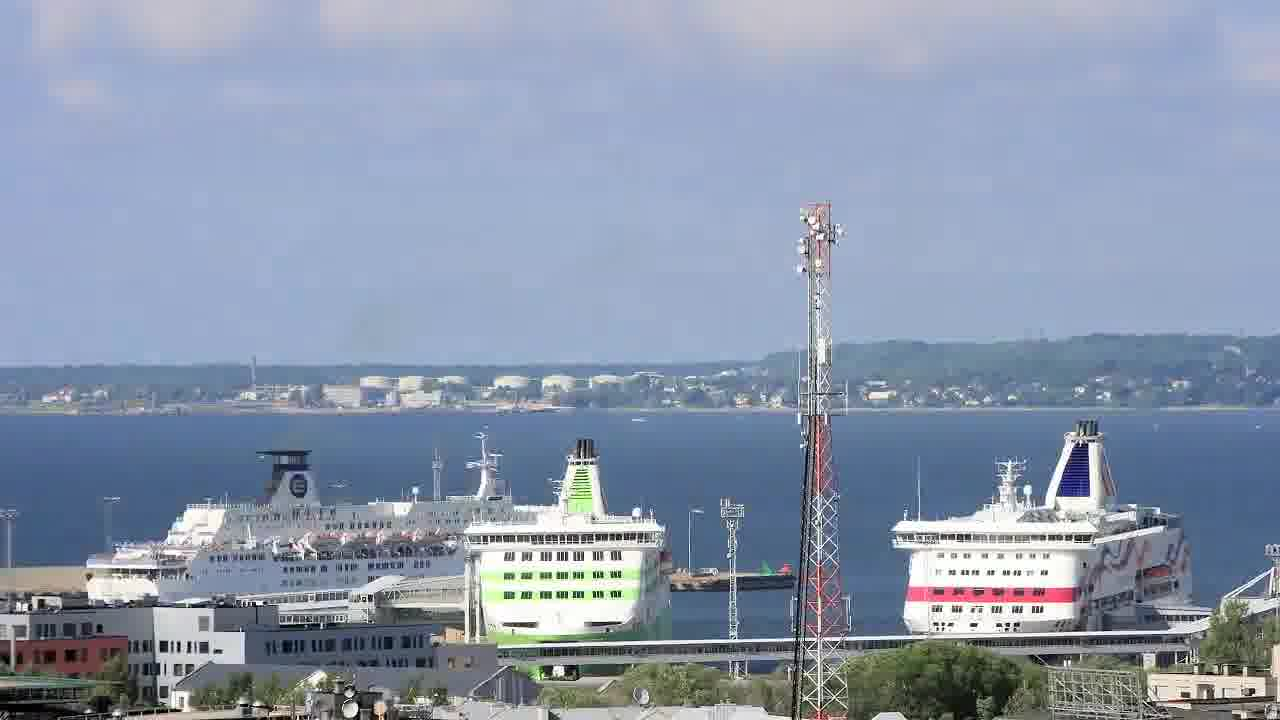type-3: (74, 423, 536, 626), (868, 415, 1225, 638), (436, 434, 694, 670)
